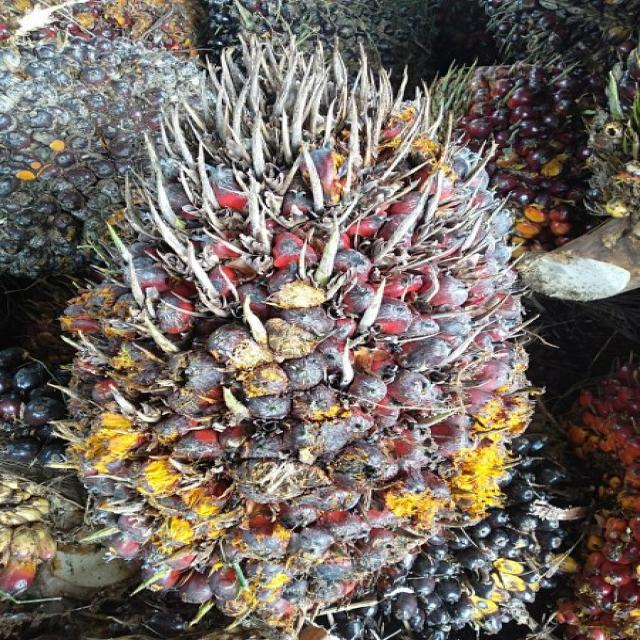fraksi 1: (76, 64, 532, 617)
